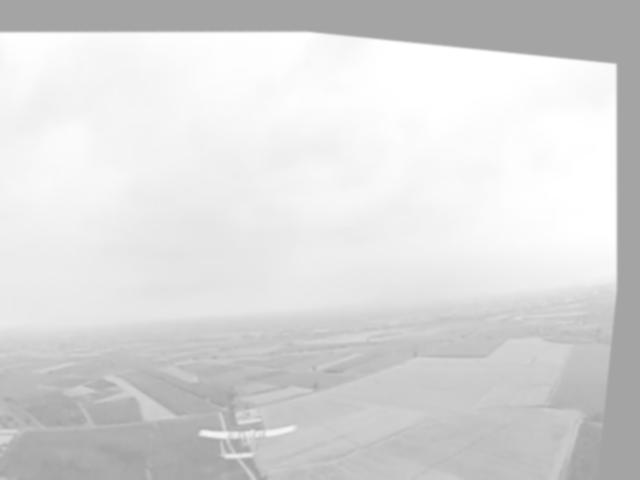hedef: (194, 392, 325, 475)
